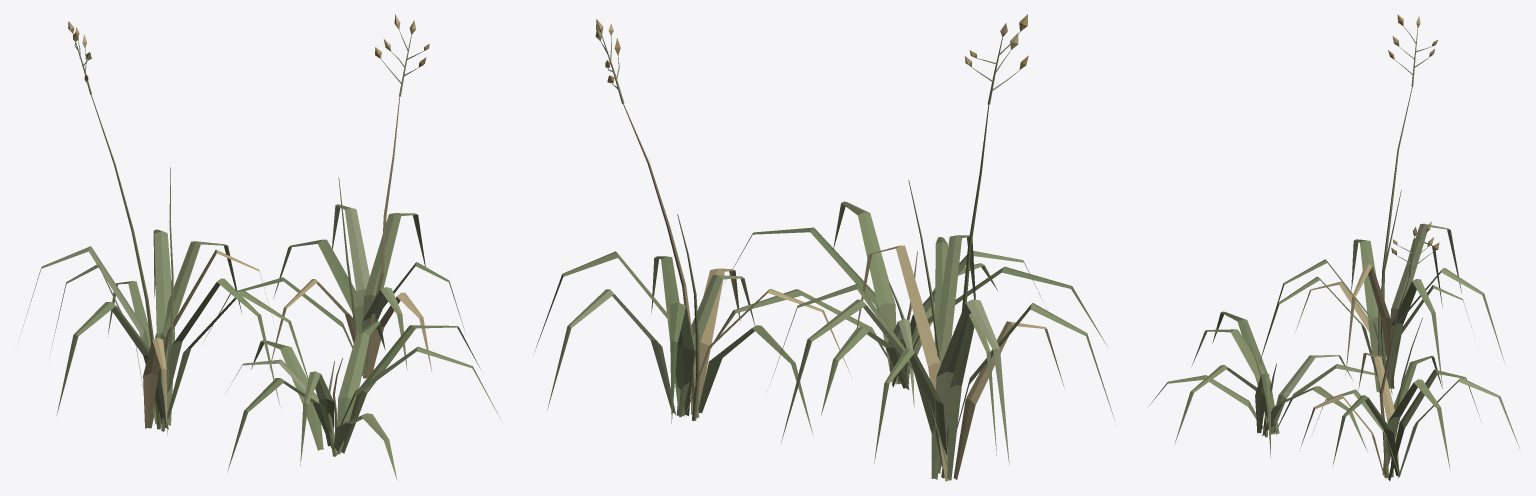
3 renders of one model, left to right at view 1: azimuth 30°, elevation 25°; view 2: azimuth 150°, elevation 25°; view 3: azimuth 270°, elevation 25°, orthographic. The views are drawn at different scales.
Parts seen in each view (by area): view 1: w01b; view 2: w01b; view 3: w01b.
Part boxes in pixels (x1,y1,x2,y2): w01b: (23,14,501,479); w01b: (534,14,1114,481); w01b: (1147,14,1519,481).
Bounding box in the file's own units: 1.11 × 1.02 × 0.9978.
